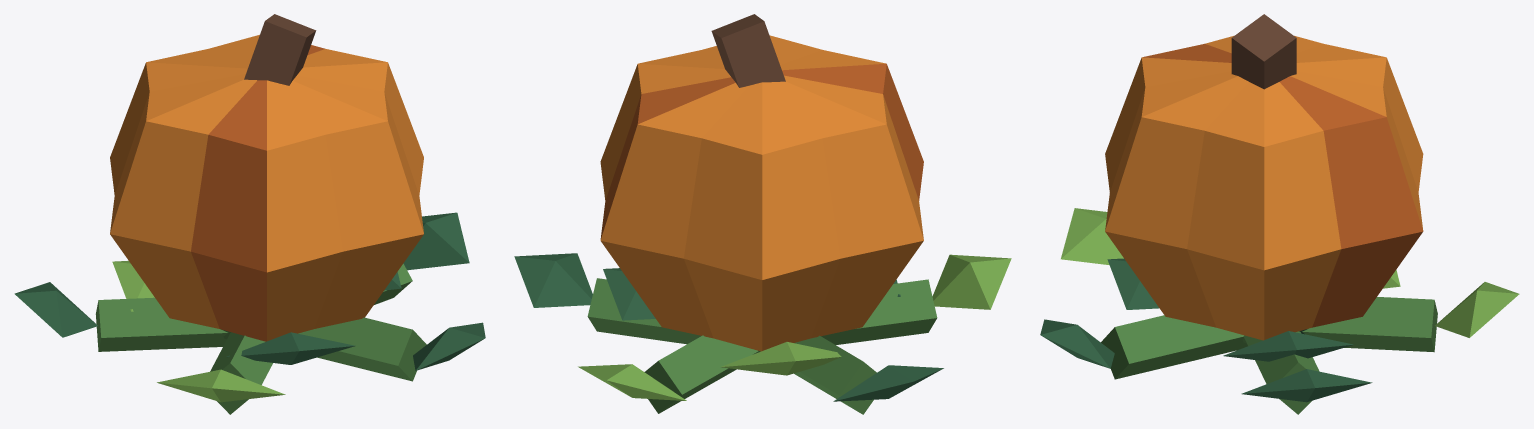
Rendered from pumpkin.glb.
3 views of the same model, side by side, from view 1: azimuth 30°, elevation 25°; view 2: azimuth 150°, elevation 25°; view 3: azimuth 270°, elevation 25° (orthographic). The views are drawn at different scales.
Visible parts, largest first — view 1: Ribbed_pumpkin.001, decor_trailing_vine.002, decor_trailing_vine.004, Pumpkin_stalk.001, decor_broad_pumpkin_leaf.003, decor_broad_pumpkin_leaf.006, decor_broad_pumpkin_leaf.005, decor_broad_pumpkin_leaf.002, decor_trailing_vine.003, decor_broad_pumpkin_leaf.007, decor_broad_pumpkin_leaf.001, decor_trailing_vine; view 2: Ribbed_pumpkin.001, decor_trailing_vine.001, decor_trailing_vine.003, Pumpkin_stalk.001, decor_broad_pumpkin_leaf.003, decor_broad_pumpkin_leaf.006, decor_trailing_vine.002, decor_trailing_vine, decor_broad_pumpkin_leaf.001, decor_broad_pumpkin_leaf.005, decor_broad_pumpkin_leaf.004, decor_broad_pumpkin_leaf; view 3: Ribbed_pumpkin.001, decor_trailing_vine.004, decor_trailing_vine.001, Pumpkin_stalk.001, decor_broad_pumpkin_leaf.006, decor_broad_pumpkin_leaf.003, decor_broad_pumpkin_leaf.004, decor_broad_pumpkin_leaf, decor_broad_pumpkin_leaf.007, decor_trailing_vine, decor_broad_pumpkin_leaf.002.
Part boxes in pixels (bbox=[...]): Ribbed_pumpkin.001: bbox=[110, 34, 423, 341]; decor_trailing_vine.002: bbox=[95, 297, 227, 351]; decor_trailing_vine.004: bbox=[298, 317, 426, 381]; Pumpkin_stalk.001: bbox=[244, 14, 316, 85]; decor_broad_pumpkin_leaf.003: bbox=[403, 212, 469, 270]; decor_broad_pumpkin_leaf.006: bbox=[157, 369, 285, 402]; decor_broad_pumpkin_leaf.005: bbox=[14, 282, 97, 337]; decor_broad_pumpkin_leaf.002: bbox=[226, 332, 355, 364]; decor_trailing_vine.003: bbox=[210, 332, 272, 414]; decor_broad_pumpkin_leaf.007: bbox=[413, 322, 485, 370]; decor_broad_pumpkin_leaf.001: bbox=[112, 260, 154, 311]; decor_trailing_vine: bbox=[374, 263, 412, 304]; Ribbed_pumpkin.001: bbox=[600, 35, 923, 351]; decor_trailing_vine.001: bbox=[644, 335, 758, 413]; decor_trailing_vine.003: bbox=[821, 279, 937, 344]; Pumpkin_stalk.001: bbox=[711, 14, 785, 87]; decor_broad_pumpkin_leaf.003: bbox=[514, 253, 592, 307]; decor_broad_pumpkin_leaf.006: bbox=[932, 254, 1011, 309]; decor_trailing_vine.002: bbox=[794, 335, 876, 414]; decor_trailing_vine: bbox=[587, 278, 700, 344]; decor_broad_pumpkin_leaf.001: bbox=[720, 342, 841, 375]; decor_broad_pumpkin_leaf.005: bbox=[833, 365, 943, 401]; decor_broad_pumpkin_leaf.004: bbox=[578, 364, 686, 400]; decor_broad_pumpkin_leaf: bbox=[603, 268, 655, 320]; Ribbed_pumpkin.001: bbox=[1105, 35, 1423, 340]; decor_trailing_vine.004: bbox=[1101, 315, 1247, 379]; decor_trailing_vine.001: bbox=[1302, 297, 1437, 352]; Pumpkin_stalk.001: bbox=[1231, 14, 1296, 89]; decor_broad_pumpkin_leaf.006: bbox=[1061, 208, 1123, 265]; decor_broad_pumpkin_leaf.003: bbox=[1241, 369, 1372, 402]; decor_broad_pumpkin_leaf.004: bbox=[1435, 282, 1519, 337]; decor_broad_pumpkin_leaf: bbox=[1223, 331, 1353, 361]; decor_broad_pumpkin_leaf.007: bbox=[1040, 319, 1114, 368]; decor_trailing_vine: bbox=[1243, 331, 1319, 414]; decor_broad_pumpkin_leaf.002: bbox=[1107, 258, 1158, 309].
Size of the model in its own units: 0.7937 by 0.6001 by 0.783.
